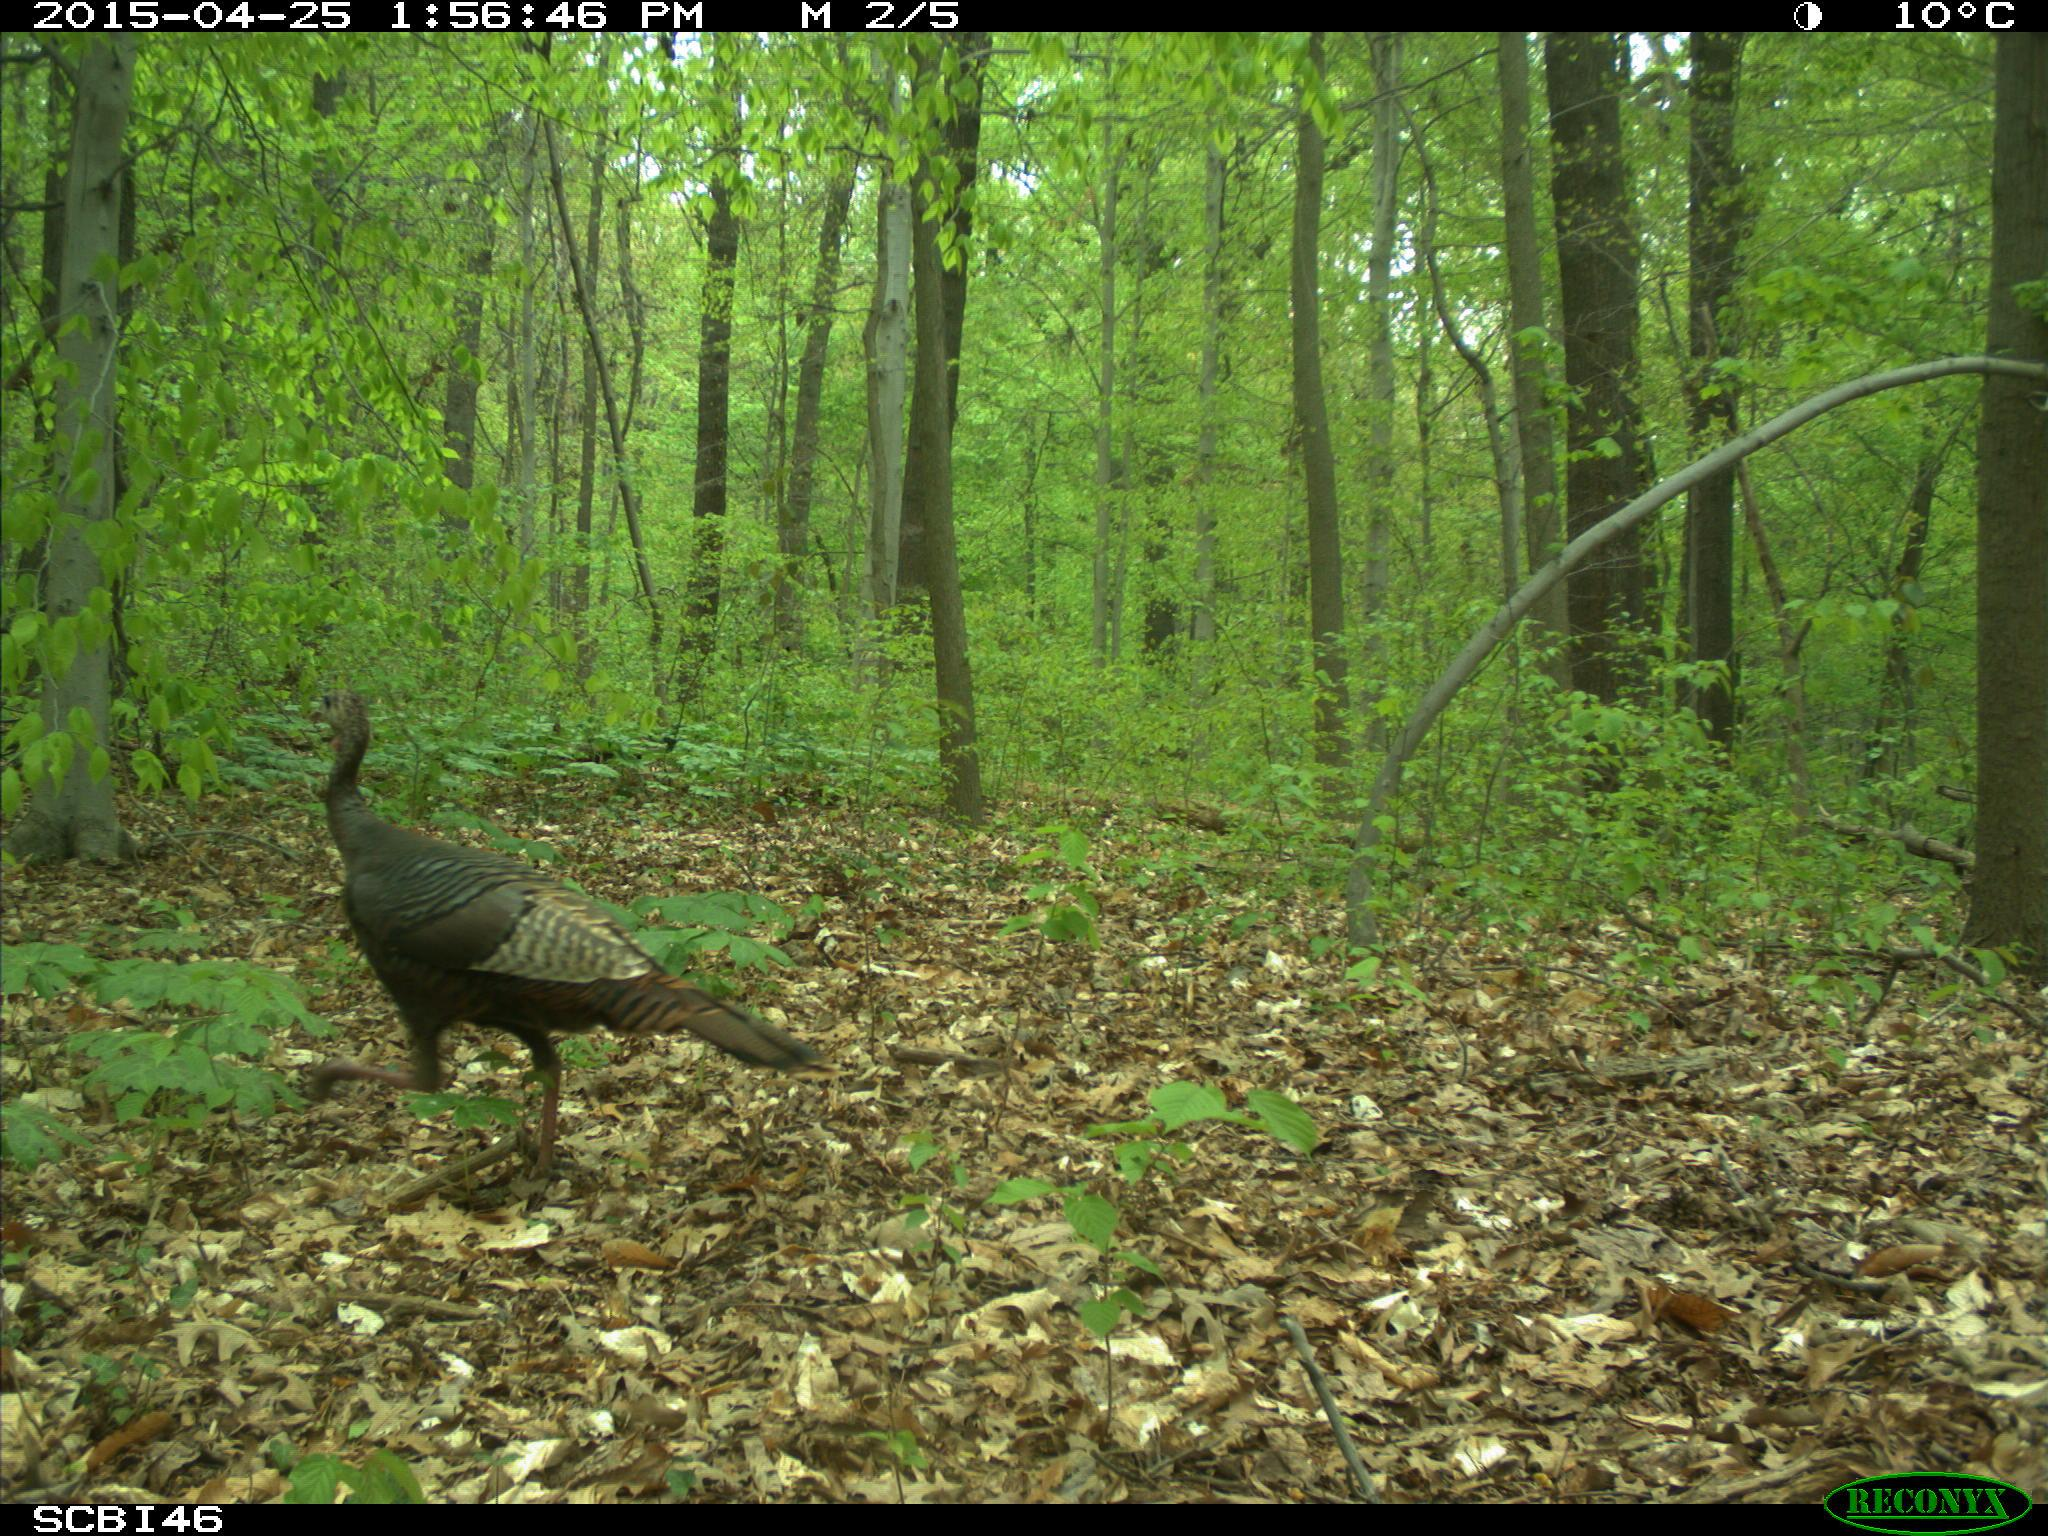Animal: (308, 687, 813, 1184)
